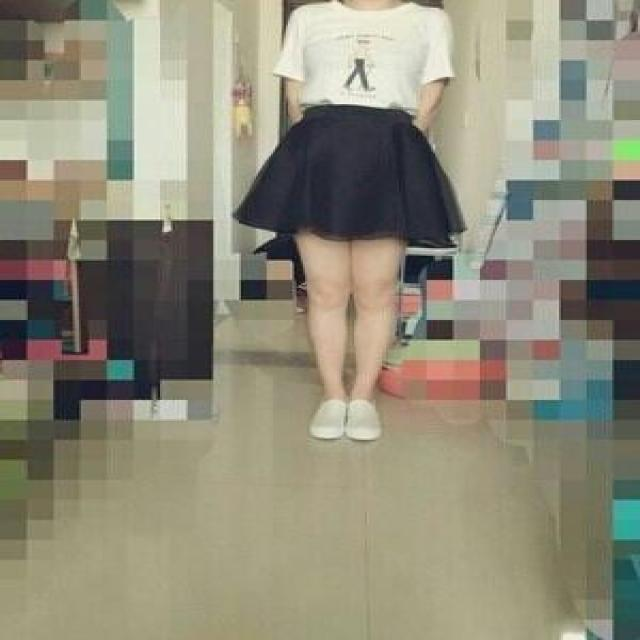short sleeve top: (271, 2, 452, 115)
skirt: (235, 106, 463, 240)
